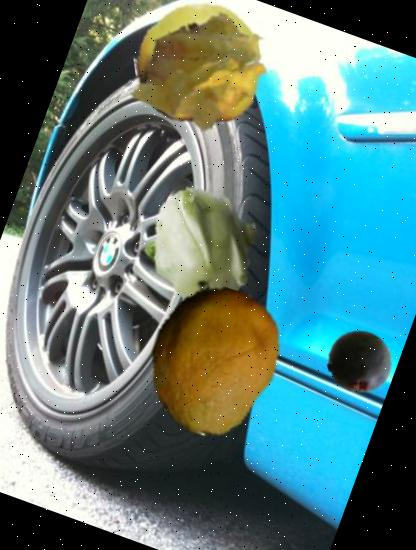Kohlrabi: (119, 167, 282, 331)
Papaya: (118, 266, 308, 456)
Physalis: (105, 0, 297, 172)
Plum: (317, 321, 400, 404)
Quince: (116, 0, 279, 147)
